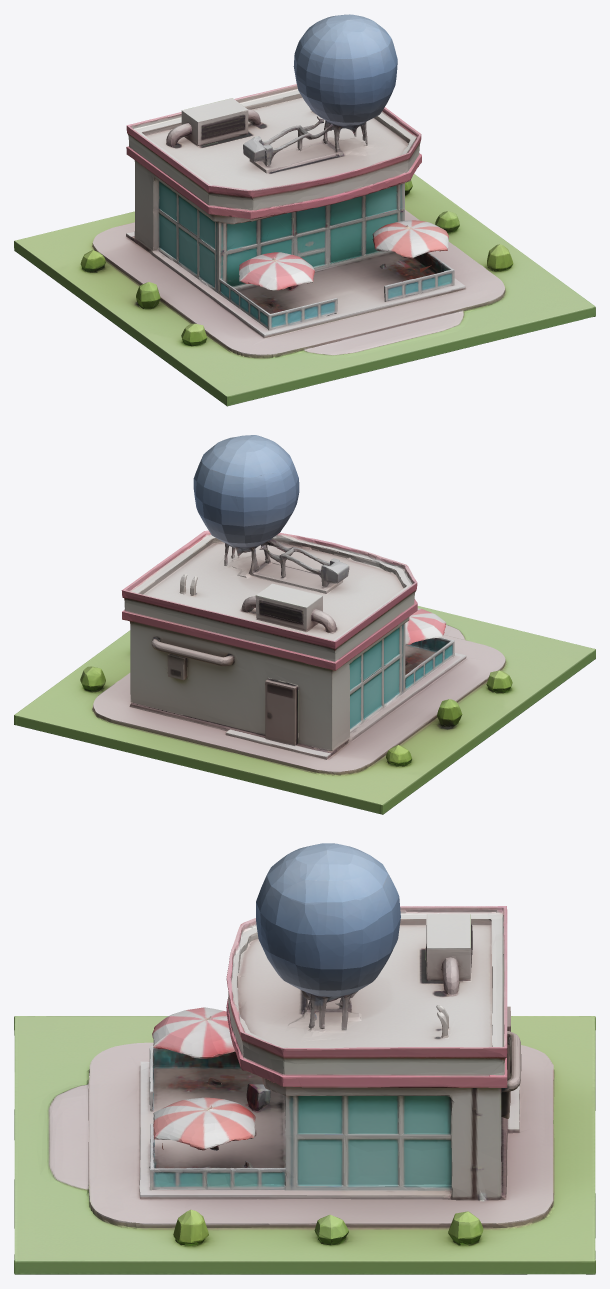
File: edit.glb
The picture shows the model from 3 angles, top to bottom: view 1: azimuth 30°, elevation 25°; view 2: azimuth 150°, elevation 25°; view 3: azimuth 270°, elevation 25°; orthographic projection. The views are drawn at different scales.
Visible parts, largest first — view 1: world; view 2: world; view 3: world.
Part boxes in pixels (x1,y1,x2,y2): world: (14,14,595,406); world: (14,435,595,814); world: (14,843,595,1274).
Bounding box in the file's own units: 1 × 0.6364 × 1.
1 material, 1 textured.
